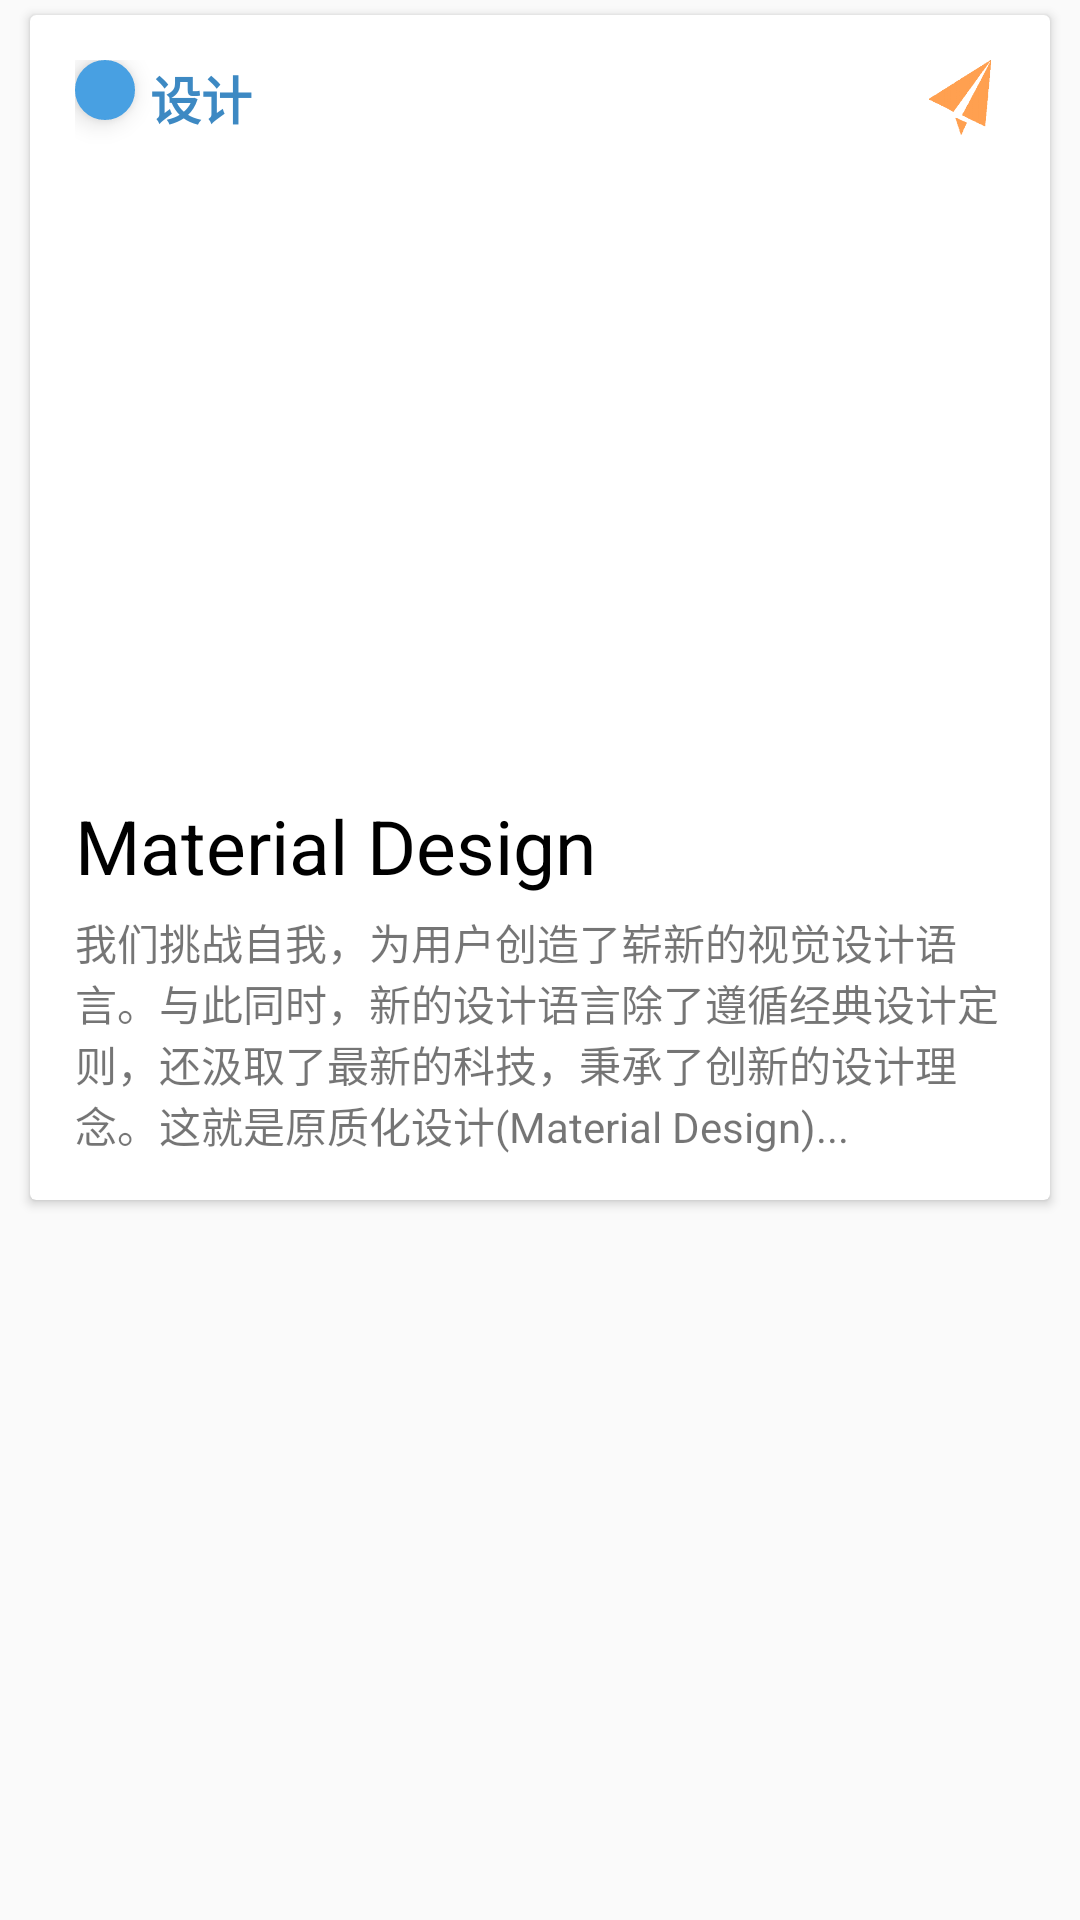

Point at icon controls on the screen. Image size 1080×1920, points as [x,y].
paper plane: [960,97]
